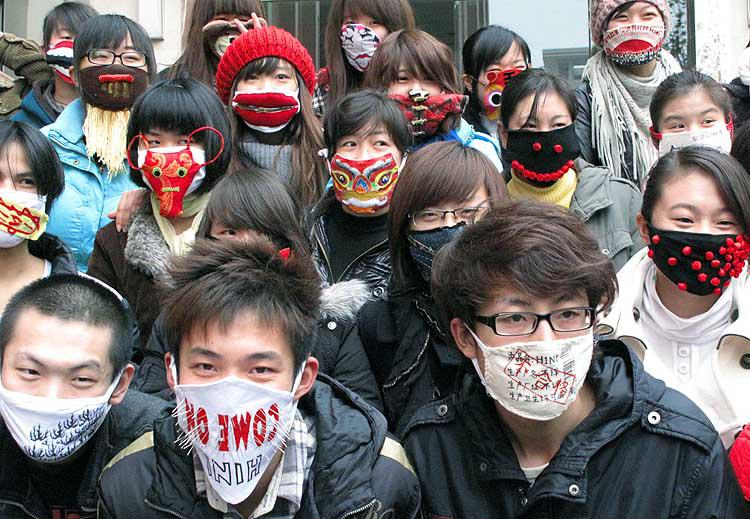NONE: (231, 64, 293, 126)
OK: (476, 288, 605, 417), (172, 338, 298, 464), (9, 348, 118, 457), (652, 200, 744, 292), (407, 197, 489, 279), (658, 105, 735, 182), (144, 126, 217, 199), (325, 132, 398, 205), (1, 161, 56, 249), (376, 66, 444, 134), (517, 115, 582, 180), (603, 5, 665, 67), (82, 43, 140, 101), (44, 25, 100, 81), (336, 11, 391, 66), (482, 56, 536, 110), (203, 8, 254, 59)
